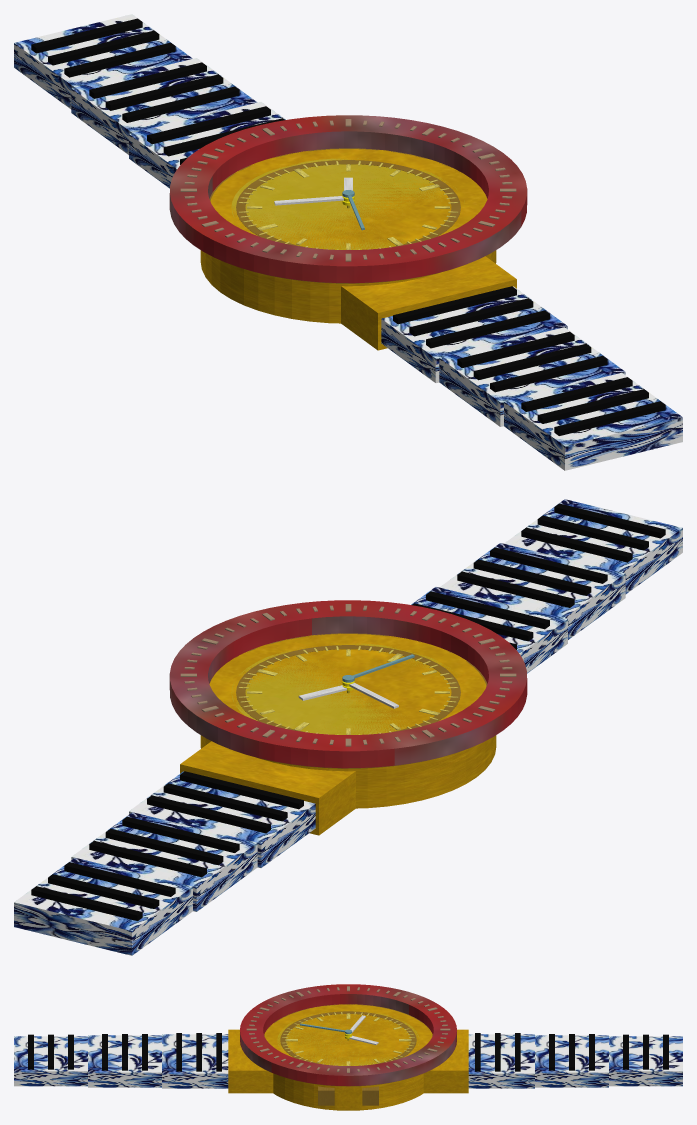
The model's file is watch__0000.glb.
3 views of the same model, one above another, from view 1: azimuth 30°, elevation 25°; view 2: azimuth 150°, elevation 25°; view 3: azimuth 270°, elevation 25° (orthographic). The views are drawn at different scales.
Parts seen in each view (by area): view 1: bezel::bezel_ring, case::case_body, case::dial_disc, bottom_strap_2::strap_body, case::bottom_lug_bridge, bottom_strap_1::strap_body, top_strap_1::strap_body, top_strap_2::strap_body, bottom_strap_0::strap_body, top_strap_0::strap_body, case::chapter_ring, bottom_strap_0::rib_1 (+16 smaller); view 2: bezel::bezel_ring, case::case_body, top_strap_2::strap_body, case::dial_disc, case::top_lug_bridge, top_strap_1::strap_body, bottom_strap_1::strap_body, bottom_strap_2::strap_body, top_strap_0::strap_body, bottom_strap_0::strap_body, case::chapter_ring, top_strap_0::rib_1 (+16 smaller); view 3: bezel::bezel_ring, case::case_body, bottom_strap_1::strap_body, top_strap_1::strap_body, bottom_strap_2::strap_body, top_strap_2::strap_body, bottom_strap_0::strap_body, top_strap_0::strap_body, case::bottom_lug_bridge, case::top_lug_bridge, case::dial_disc, case::chapter_ring (+16 smaller).
Boxes of the visible parts, left/top/right/bottom form: bezel::bezel_ring: left=169, top=115, right=527, bottom=283; case::case_body: left=200, top=149, right=496, bottom=323; case::dial_disc: left=231, top=158, right=464, bottom=249; bottom_strap_2::strap_body: left=504, top=372, right=682, bottom=470; case::bottom_lug_bridge: left=341, top=256, right=516, bottom=350; bottom_strap_1::strap_body: left=439, top=327, right=625, bottom=426; top_strap_1::strap_body: left=71, top=58, right=257, bottom=154; top_strap_2::strap_body: left=14, top=14, right=192, bottom=109; bottom_strap_0::strap_body: left=381, top=286, right=567, bottom=382; top_strap_0::strap_body: left=129, top=102, right=285, bottom=188; case::chapter_ring: left=236, top=160, right=460, bottom=247; bottom_strap_0::rib_1: left=409, top=298, right=533, bottom=336; bezel::bezel_ring: left=169, top=600, right=527, bottom=768; case::case_body: left=200, top=633, right=496, bottom=808; top_strap_2::strap_body: left=14, top=857, right=192, bottom=955; case::dial_disc: left=231, top=643, right=464, bottom=734; case::top_lug_bridge: left=180, top=741, right=355, bottom=835; top_strap_1::strap_body: left=71, top=812, right=257, bottom=911; bottom_strap_1::strap_body: left=439, top=543, right=625, bottom=639; bottom_strap_2::strap_body: left=504, top=499, right=682, bottom=594; top_strap_0::strap_body: left=129, top=771, right=315, bottom=867; bottom_strap_0::strap_body: left=411, top=587, right=567, bottom=673; case::chapter_ring: left=236, top=645, right=460, bottom=732; top_strap_0::rib_1: left=163, top=783, right=287, bottom=821; bezel::bezel_ring: left=240, top=984, right=456, bottom=1086; case::case_body: left=264, top=1004, right=432, bottom=1110; bottom_strap_1::strap_body: left=88, top=1035, right=161, bottom=1087; top_strap_1::strap_body: left=535, top=1035, right=608, bottom=1087; bottom_strap_2::strap_body: left=14, top=1036, right=87, bottom=1086; top_strap_2::strap_body: left=609, top=1036, right=682, bottom=1086; bottom_strap_0::strap_body: left=162, top=1034, right=228, bottom=1088; top_strap_0::strap_body: left=468, top=1034, right=534, bottom=1088; case::bottom_lug_bridge: left=228, top=1029, right=273, bottom=1093; case::top_lug_bridge: left=423, top=1029, right=468, bottom=1093; case::dial_disc: left=277, top=1010, right=419, bottom=1065; case::chapter_ring: left=280, top=1011, right=416, bottom=1064.
Bounding box in the file's own units: 0.0655 × 0.0144 × 0.2019.
11 materials, 10 textured.
